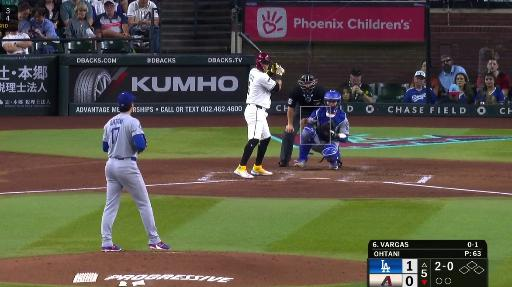pitcher: (100, 92, 172, 253)
